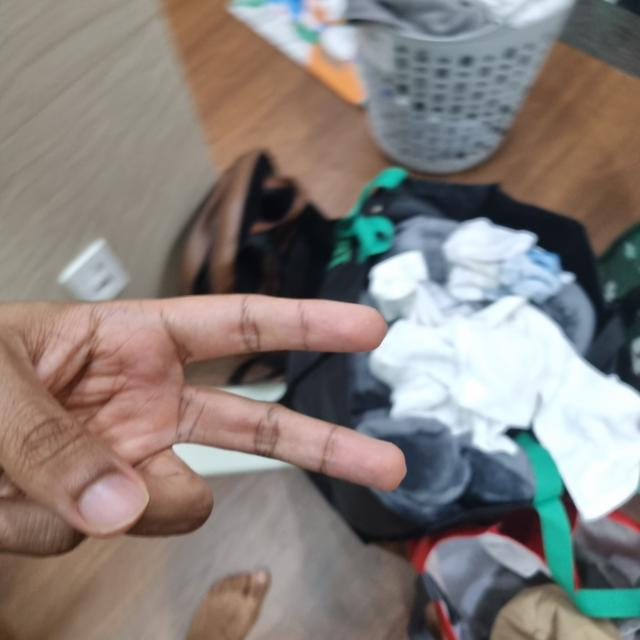Scissors: (0, 287, 408, 640)
